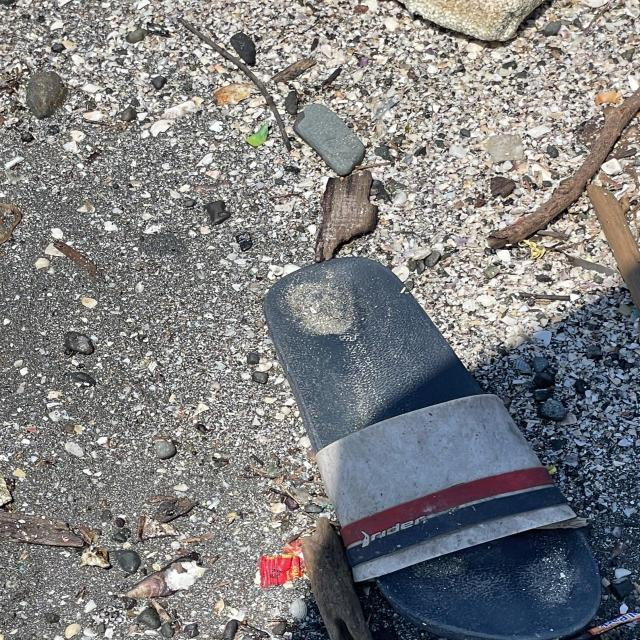rubber_waste: (266, 257, 600, 640)
